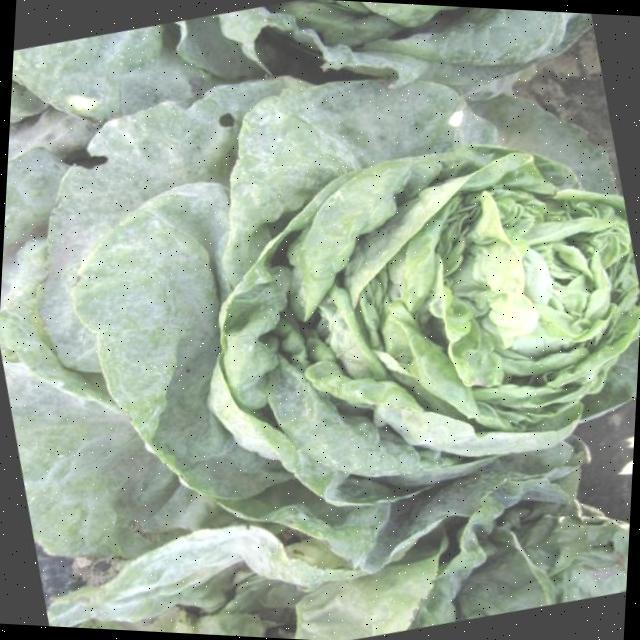Powdery_Mildew: (32, 21, 639, 573)
